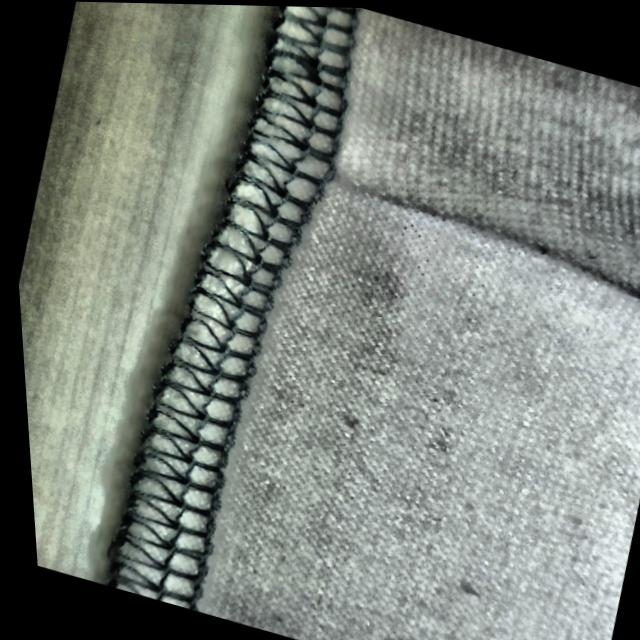seam: (211, 81, 566, 292)
